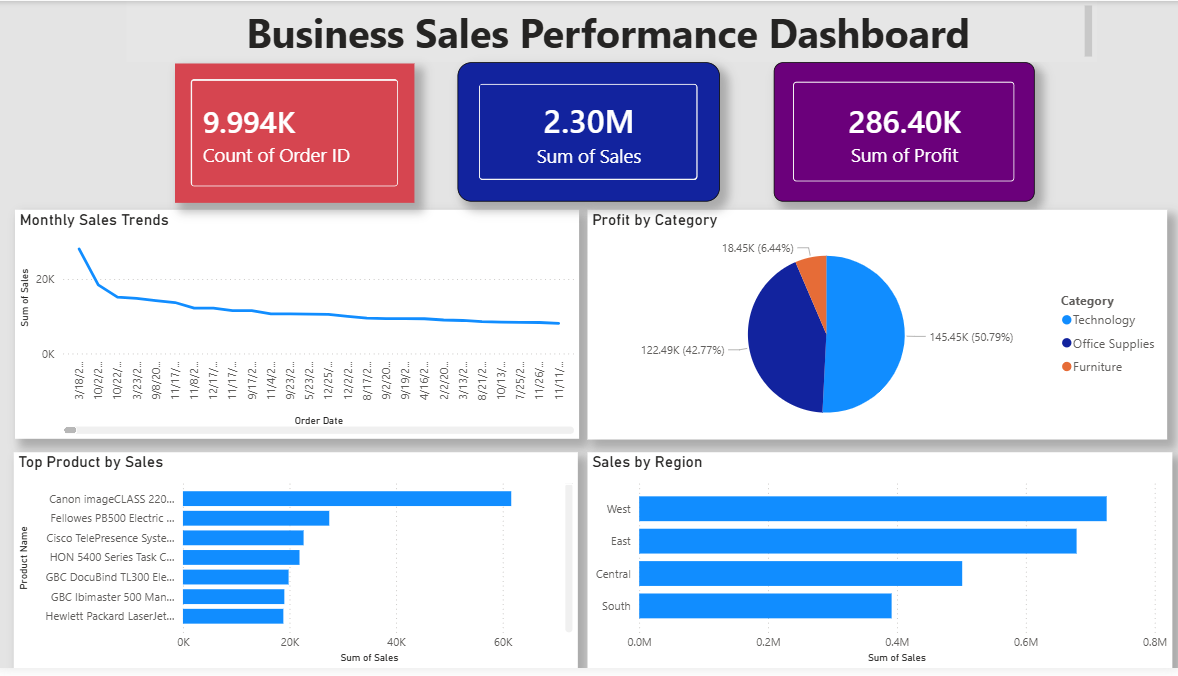

The dashboard page shown, as its layout file describes it:
{"tool":"powerbi","page":{"name":"Page 1","canvas":[1280,720],"ordinal":0},"visuals":[{"type":"cardVisual","fields":{"Data":["Sum(Sample - Superstore.Profit)"]},"box":[840,65.7,281.4,150],"z":0},{"type":"lineChart","title":"Monthly Sales Trends","fields":{"Category":["Sample - Superstore.Order Date"],"Y":["Sum(Sample - Superstore.Sales)"]},"box":[21.4,225.7,608.6,247.1],"z":1000},{"type":"clusteredBarChart","title":"Top Product by Sales","fields":{"Category":["Sample - Superstore.Product Name"],"Y":["Sum(Sample - Superstore.Sales)","Sum(Sample - Superstore.Sales)"]},"box":[20.2,487,608.4,233.4],"z":2000},{"type":"pieChart","title":"Profit by Category","fields":{"Category":["Sample - Superstore.Category"],"Y":["Sum(Sample - Superstore.Profit)"]},"box":[639.5,225.3,626,248.2],"z":3000},{"type":"textbox","box":[141.4,0,1047.1,65.7],"z":4000},{"type":"cardVisual","fields":{"Data":["Sum(Sample - Superstore.Sales)"]},"box":[498.6,65.7,282.9,150],"z":5000},{"type":"clusteredBarChart","title":" Sales by Region","fields":{"Category":["Sample - Superstore.Region"],"Y":["Sum(Sample - Superstore.Sales)"]},"box":[639.5,487,631.4,233.4],"z":5001},{"type":"cardVisual","fields":{"Data":["CountNonNull(Sample - Superstore.Order ID)"]},"box":[194.3,67.1,258.6,150],"z":5002}]}

Visuals, with their boxes in screenshot pixels (x1, y1, x2, y2), scaled from the page's 1280x720 canvas onto the 1178x676 screenshot:
cardVisual - Sum(Sample - Superstore.Profit): 773:62:1032:203
"Monthly Sales Trends" lineChart: 20:212:580:444
"Top Product by Sales" clusteredBarChart: 19:457:579:675
"Profit by Category" pieChart: 589:212:1165:445
textbox: 130:0:1094:62
cardVisual - Sum(Sample - Superstore.Sales): 459:62:719:203
" Sales by Region" clusteredBarChart: 589:457:1170:675
cardVisual - CountNonNull(Sample - Superstore.Order ID): 179:63:417:204
